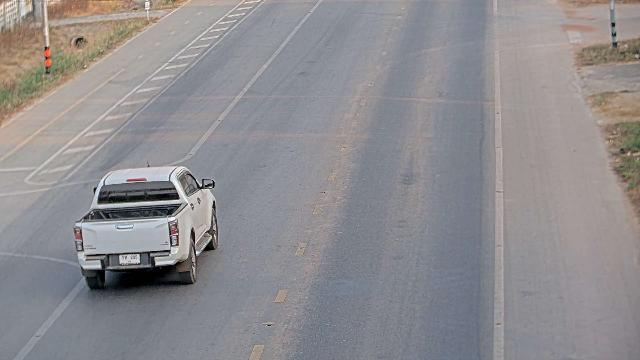pickup-truck: (73, 163, 219, 290)
